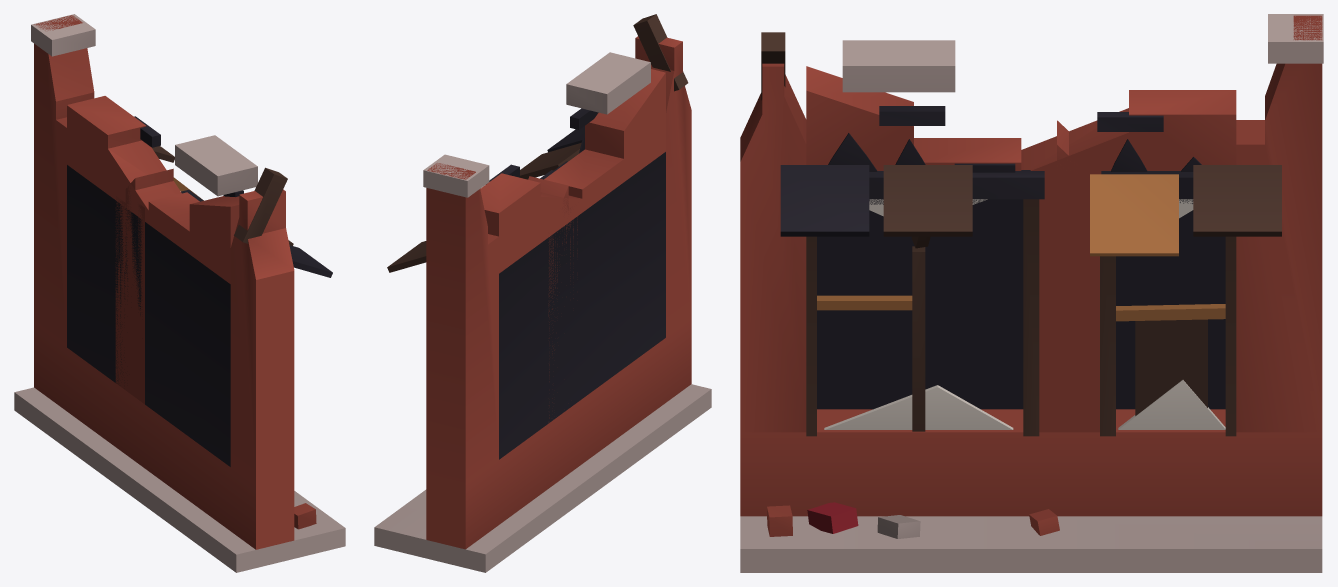
Rendered from decay.burned-facade.brick.lod1.glb.
3 views of the same model, side by side, from view 1: azimuth 30°, elevation 25°; view 2: azimuth 150°, elevation 25°; view 3: azimuth 270°, elevation 25° (orthographic). The views are drawn at different scales.
Bounding box in the file's own units: 1.28 × 4.17 × 4.41.
